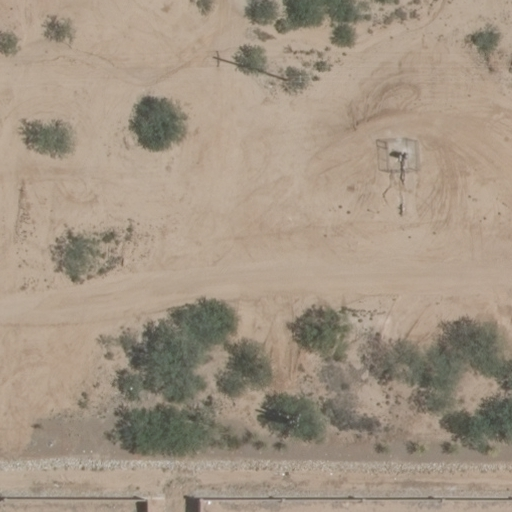DT: (281, 68, 310, 86)
